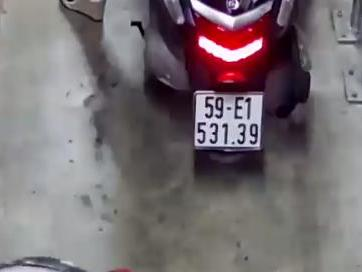num_plate: (191, 89, 266, 153)
